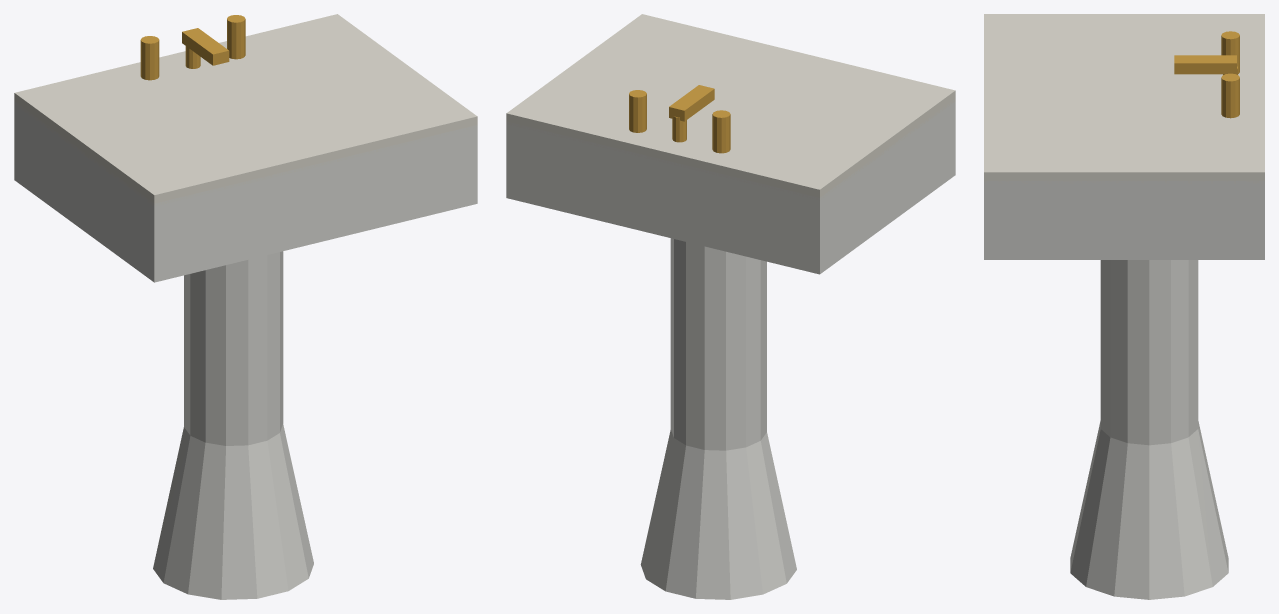
Rendered from pia.obj.
3 views of the same model, side by side, from view 1: azimuth 30°, elevation 25°; view 2: azimuth 150°, elevation 25°; view 3: azimuth 270°, elevation 25° (orthographic). The views are drawn at different scales.
Parts seen in each view (by area): view 1: parte_04_marmore, parte_02_porcelana, parte_00_porcelana, parte_01_porcelana, parte_07_latao, parte_05_latao, parte_06_latao; view 2: parte_04_marmore, parte_02_porcelana, parte_00_porcelana, parte_01_porcelana, parte_07_latao, parte_05_latao, parte_06_latao; view 3: parte_04_marmore, parte_02_porcelana, parte_00_porcelana, parte_01_porcelana, parte_07_latao, parte_06_latao, parte_05_latao.
Part boxes in pixels (<box>): parte_04_marmore: <box>14,14,477,205</box>; parte_02_porcelana: <box>14,101,477,282</box>; parte_00_porcelana: <box>153,424,313,599</box>; parte_01_porcelana: <box>184,251,283,445</box>; parte_07_latao: <box>182,28,229,65</box>; parte_05_latao: <box>140,36,159,80</box>; parte_06_latao: <box>227,15,245,59</box>; parte_04_marmore: <box>506,14,955,200</box>; parte_02_porcelana: <box>506,99,955,274</box>; parte_00_porcelana: <box>640,429,796,599</box>; parte_01_porcelana: <box>670,238,766,450</box>; parte_07_latao: <box>669,85,714,121</box>; parte_05_latao: <box>712,110,730,153</box>; parte_06_latao: <box>629,90,646,132</box>; parte_04_marmore: <box>984,14,1264,183</box>; parte_02_porcelana: <box>984,180,1264,259</box>; parte_00_porcelana: <box>1070,421,1228,599</box>; parte_01_porcelana: <box>1100,260,1198,445</box>; parte_07_latao: <box>1174,55,1236,74</box>; parte_06_latao: <box>1221,73,1239,118</box>; parte_05_latao: <box>1221,31,1239,73</box>.
Size of the model in its own units: 0.6 by 0.9 by 0.45.
